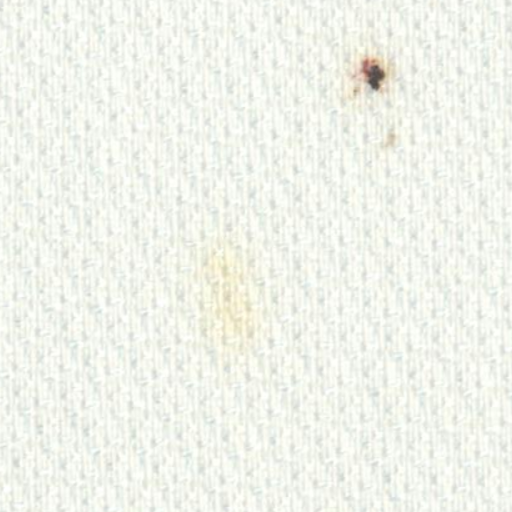WuZi: (180, 214, 297, 375), (316, 30, 425, 170)
